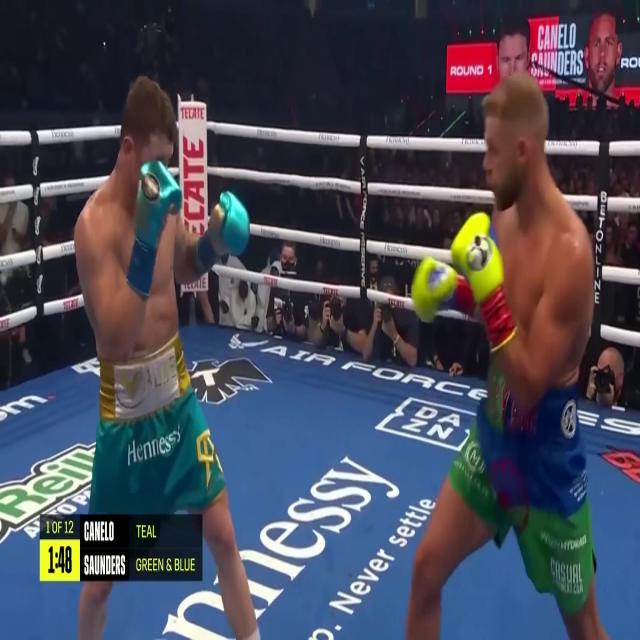boxer_1: (484, 75, 594, 410)
boxer_2: (74, 75, 201, 362)
gloves_1: (412, 211, 517, 351)
gloves_2: (127, 159, 181, 295), (195, 190, 249, 272)
